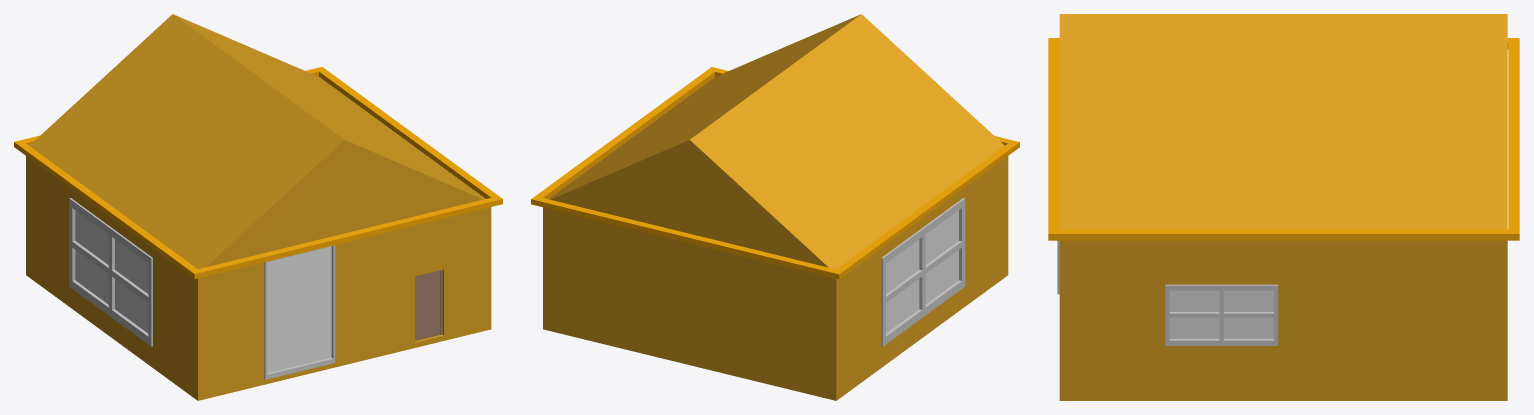
The model's file is House_23.fbx.
3 renders of one model, left to right at view 1: azimuth 30°, elevation 25°; view 2: azimuth 150°, elevation 25°; view 3: azimuth 270°, elevation 25°, orthographic. The views are drawn at different scales.
Visible parts, largest first — view 1: House_23_Body; view 2: House_23_Body; view 3: House_23_Body.
Boxes of the visible parts, x1=… form: House_23_Body: x1=14, y1=14, x2=502, y2=400; House_23_Body: x1=531, y1=14, x2=1019, y2=400; House_23_Body: x1=1048, y1=14, x2=1519, y2=400.
Size of the model in its own units: 1312 by 917 by 1333.
